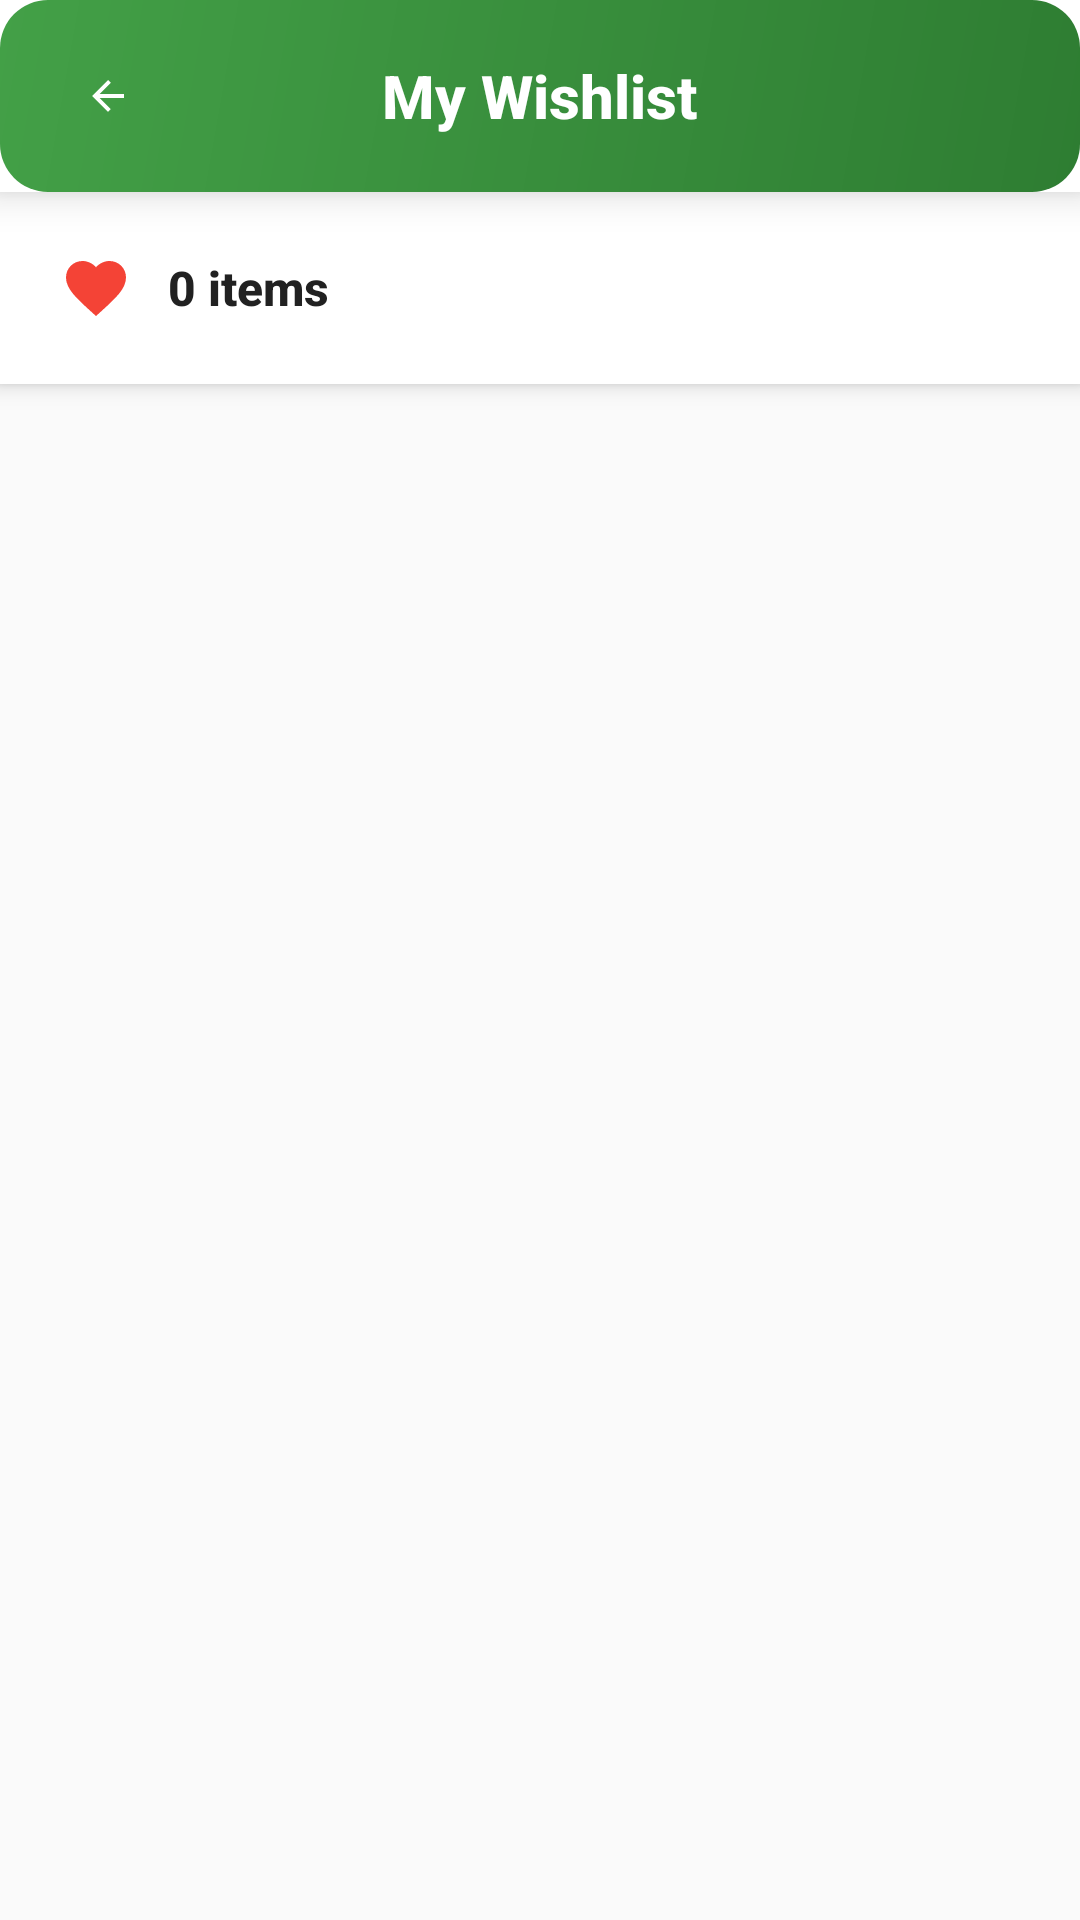

Locate icon controls on the screen. Image size 1080 x 1920, boxes as (x1, y1, x2, y2).
Back: (92, 80, 124, 112)
favorite: (66, 261, 126, 316)
